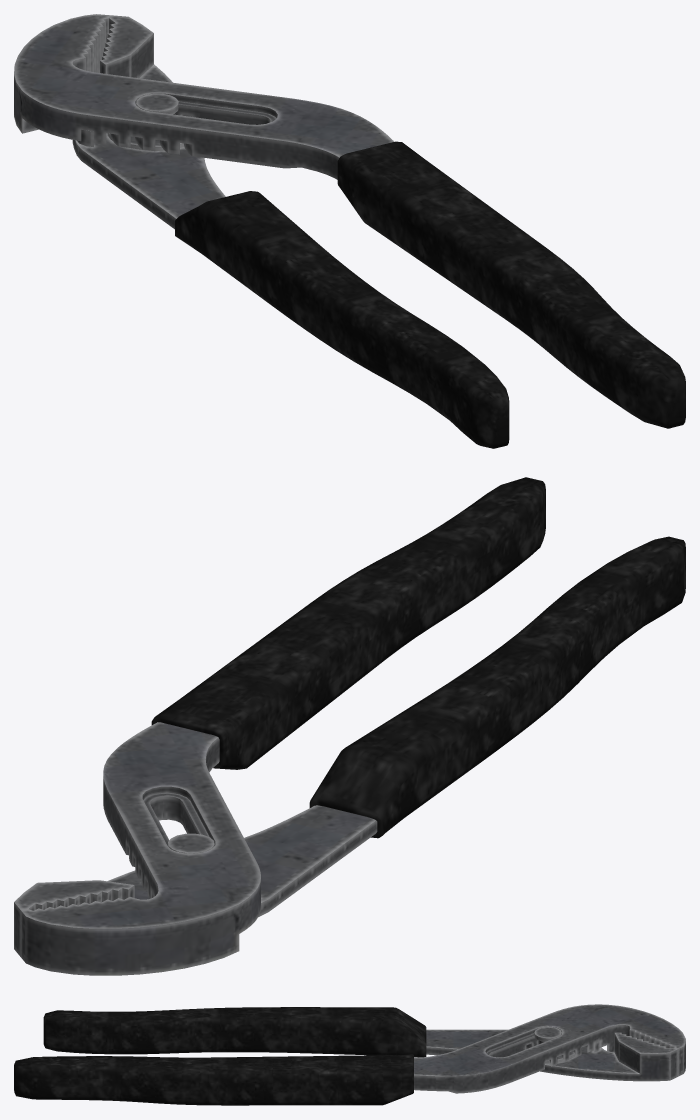
3 views of the same model, one above another, from view 1: azimuth 30°, elevation 25°; view 2: azimuth 150°, elevation 25°; view 3: azimuth 270°, elevation 25° (orthographic). The views are drawn at different scales.
Parts seen in each view (by area): view 1: tongue_groove_pliers_r, tongue_groove_pliers_l; view 2: tongue_groove_pliers_r, tongue_groove_pliers_l; view 3: tongue_groove_pliers_r, tongue_groove_pliers_l.
Part boxes in pixels (x1,y1,x2,y2): tongue_groove_pliers_r: (14,14,685,428); tongue_groove_pliers_l: (72,15,509,448); tongue_groove_pliers_r: (21,477,545,975); tongue_groove_pliers_l: (14,536,685,956); tongue_groove_pliers_r: (14,1004,685,1105); tongue_groove_pliers_l: (43,1007,677,1081).
Size of the model in its own units: 0.0625 by 0.0139 by 0.2444.
Materials: 1 (1 with a texture image).
